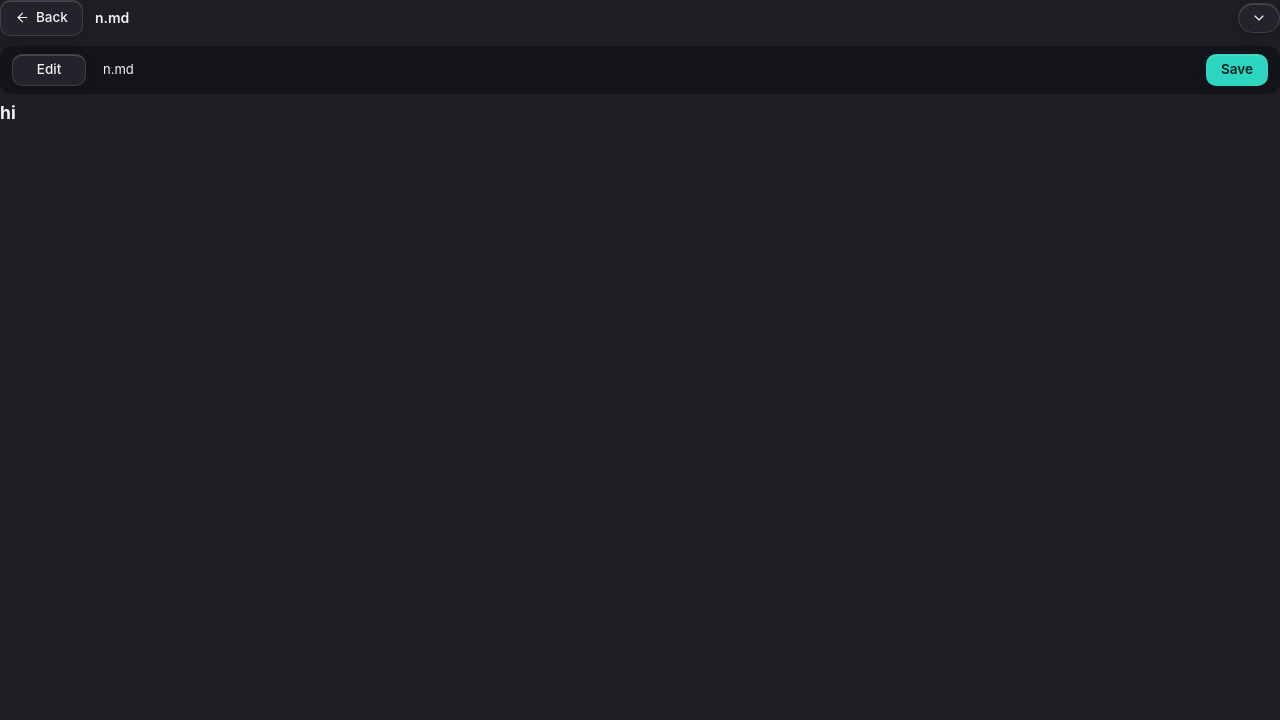
Test case: FileViewer › renders a markdown design by default, edits the raw text, and shows the update
This screenshot has width=1280, height=720.
expect the heading reads "hi": met, box [0,102,16,123]
Click the button "Edit" at (49, 70), box [12,54,86,86]
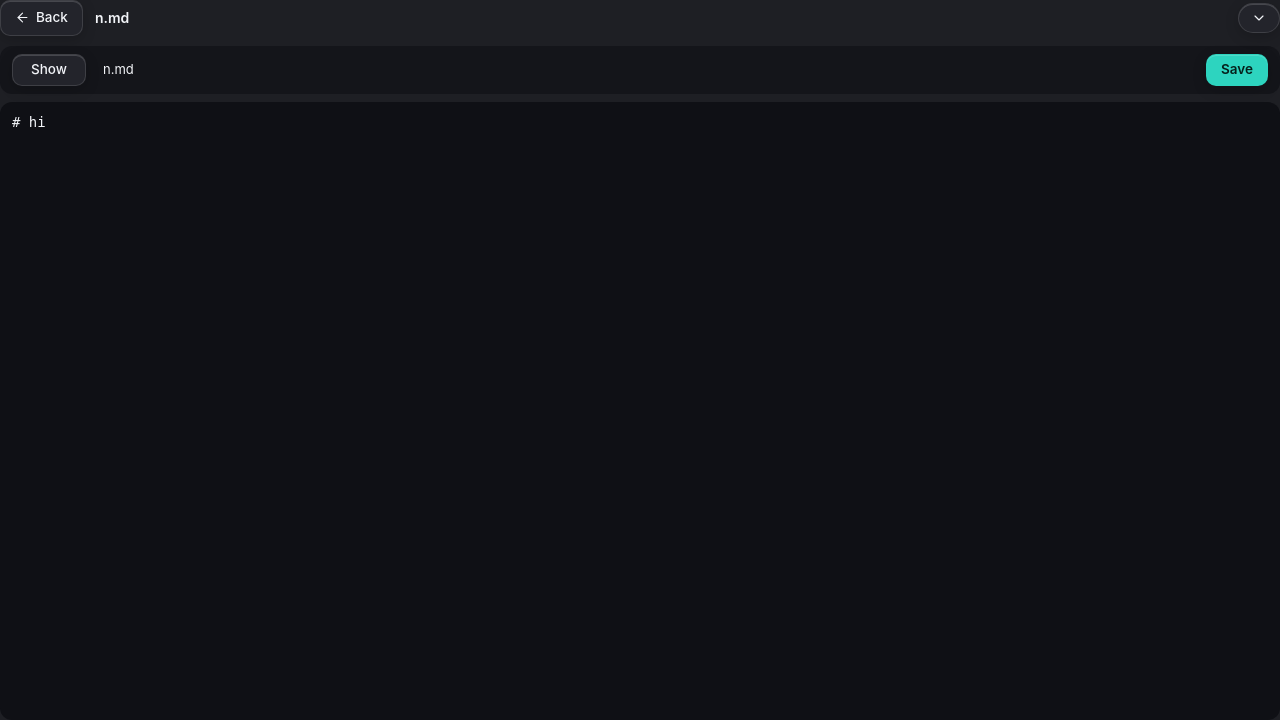
expect the text box holds "# hi": met
Replace the text in the text box with "# bye" at (640, 411), box [0,102,1279,719]
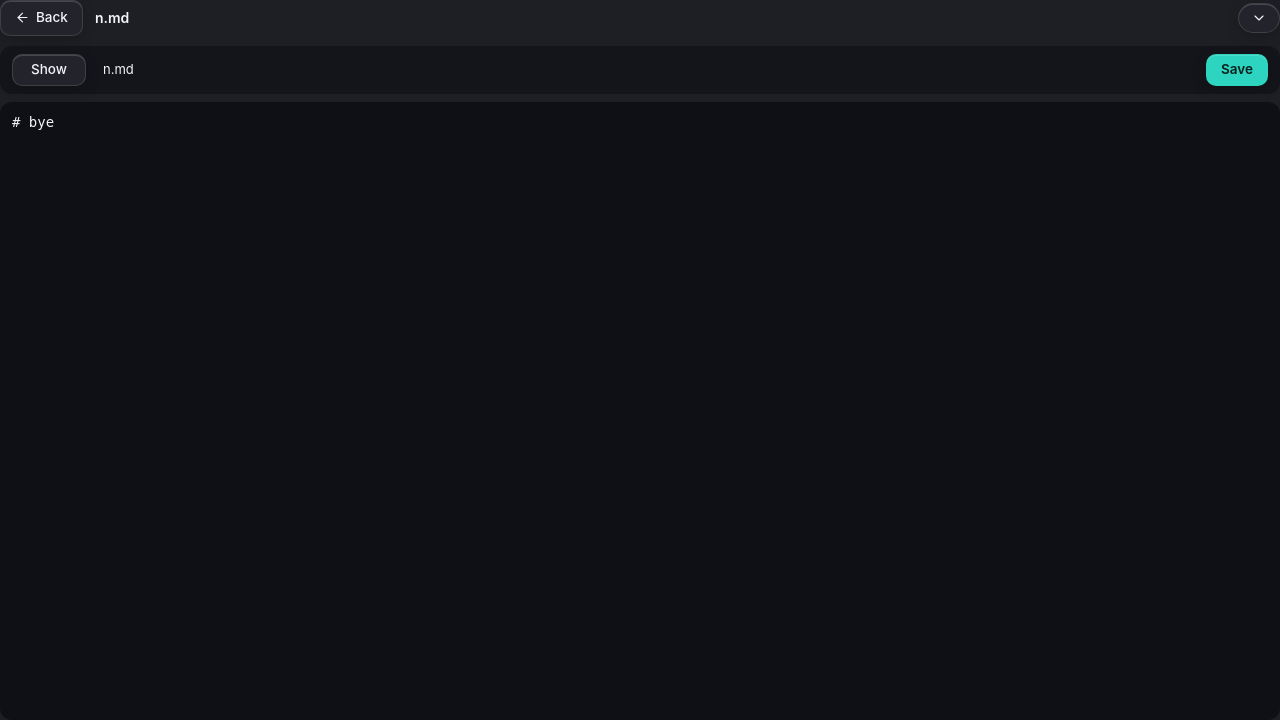
Click the button "Save" at (1237, 70), box [1206,54,1268,86]
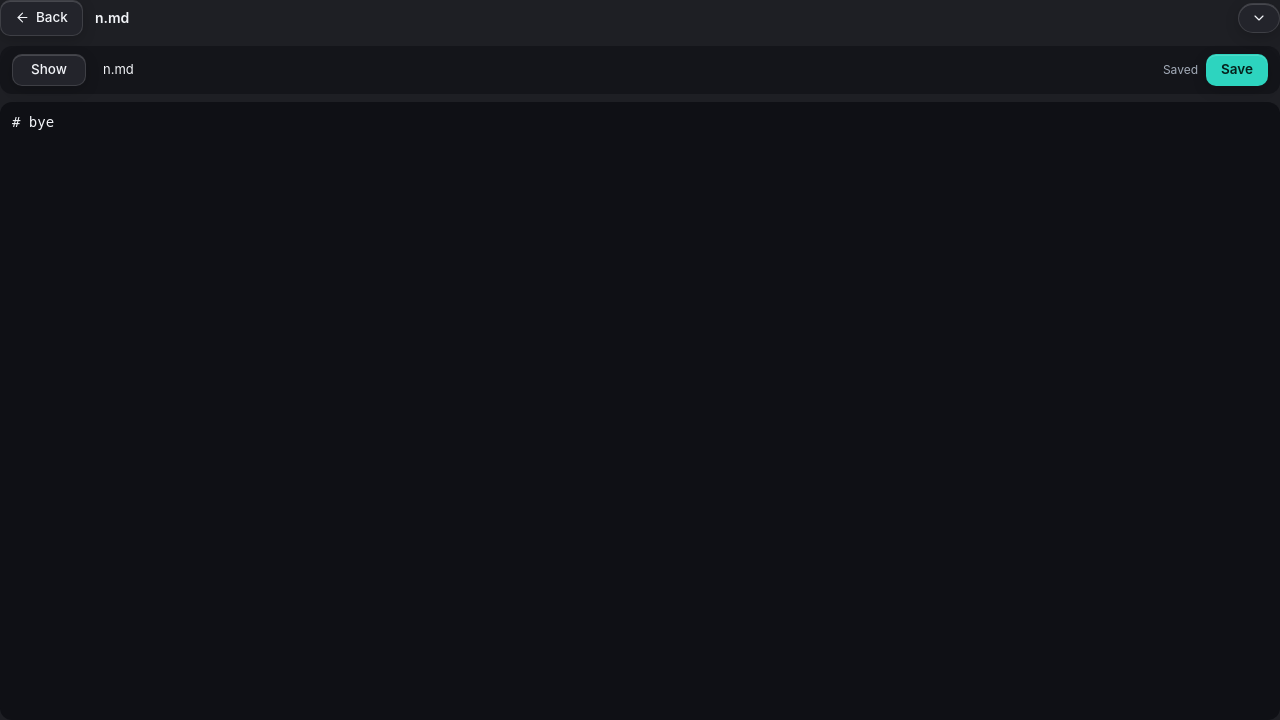
# Back to the design, now reflecting the edit.
Click the button "Show" at (49, 70), box [12,54,86,86]
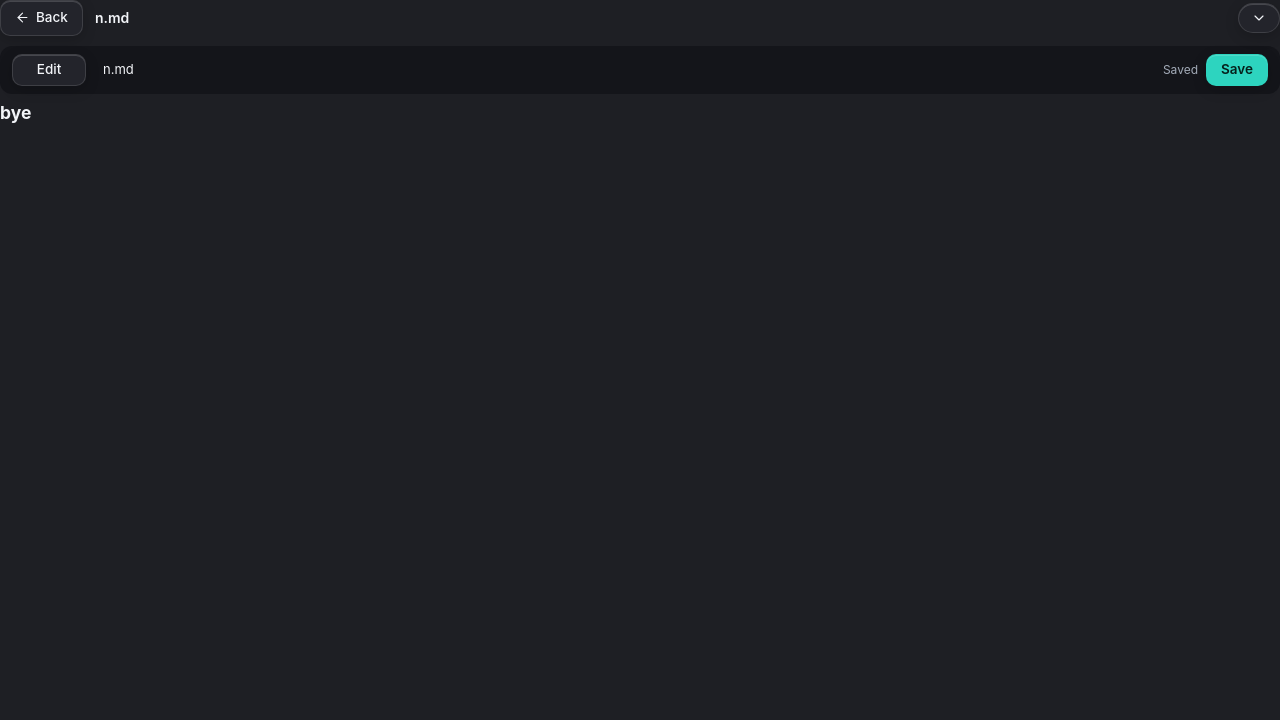
expect the heading reads "bye": met, box [0,102,31,123]
